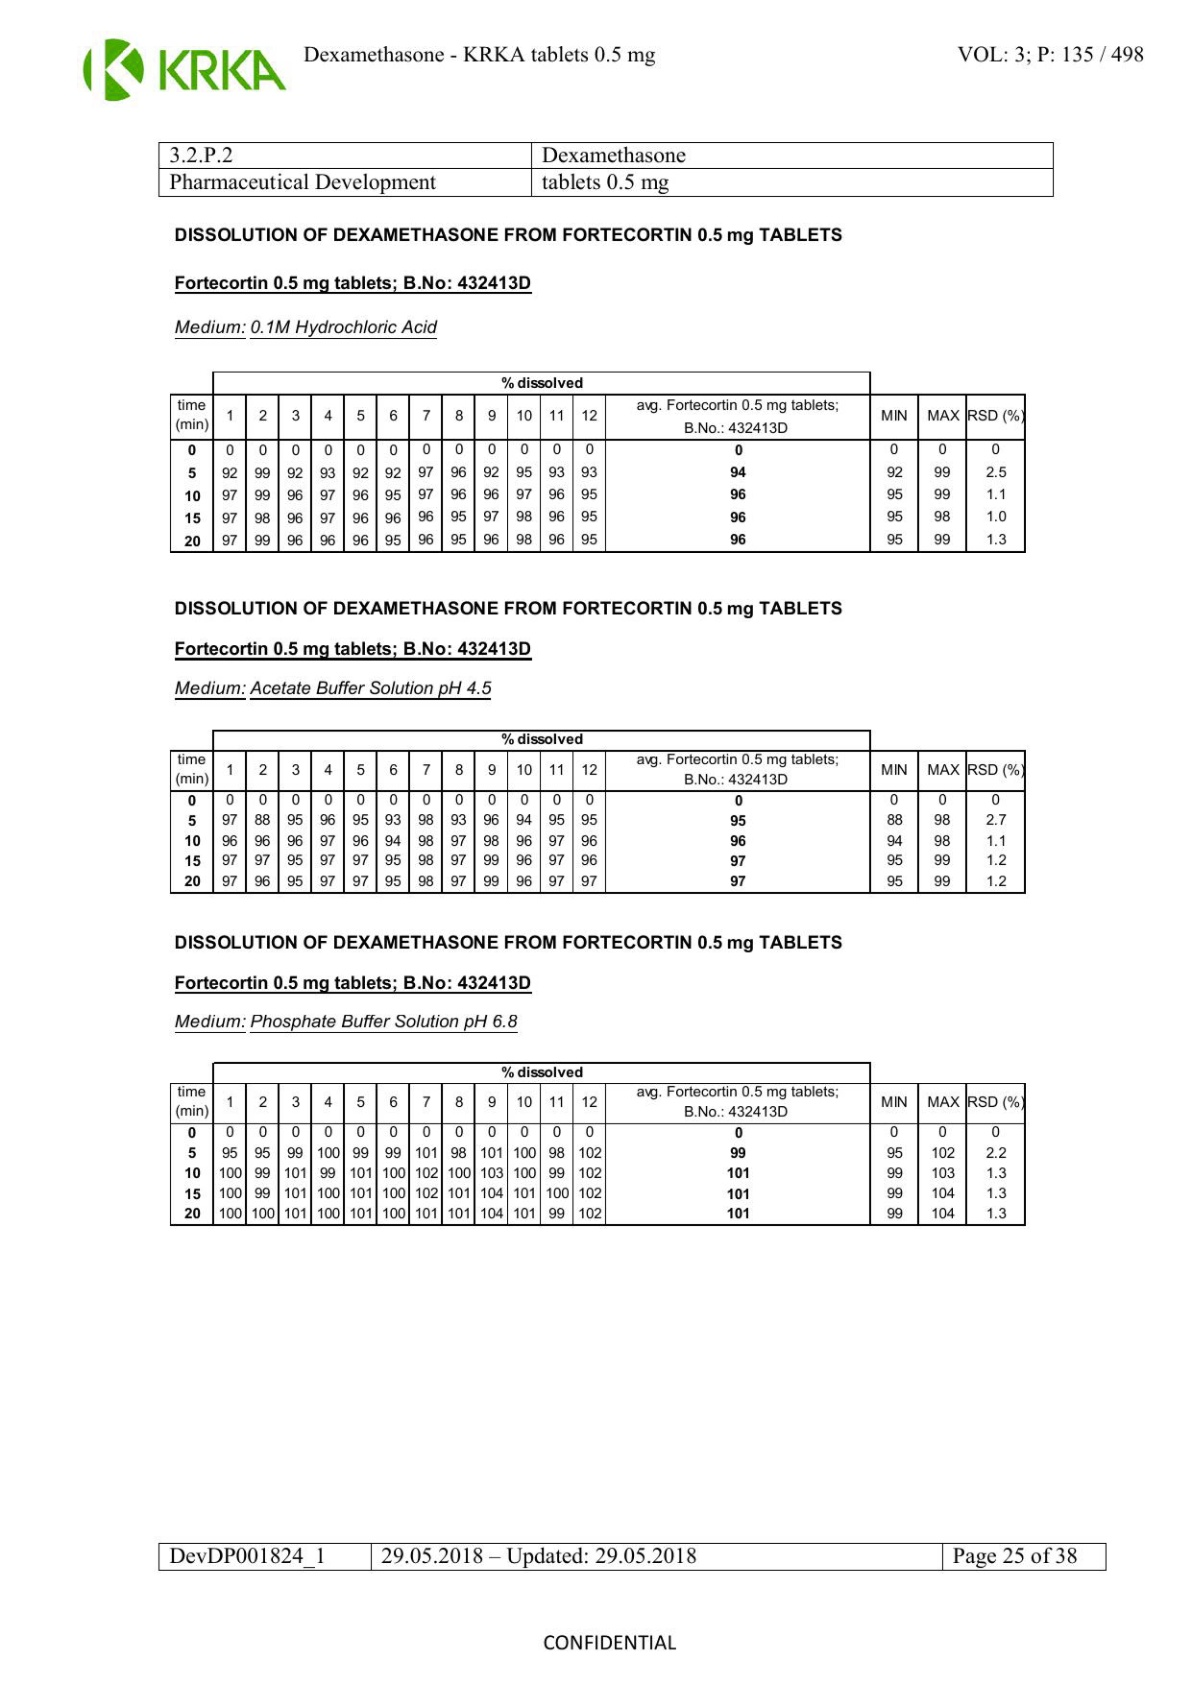full_lined: (157, 142, 1054, 199), (157, 1542, 1107, 1571)
merged_cells: (169, 371, 1026, 553), (168, 729, 1026, 894), (169, 1061, 1026, 1226)
